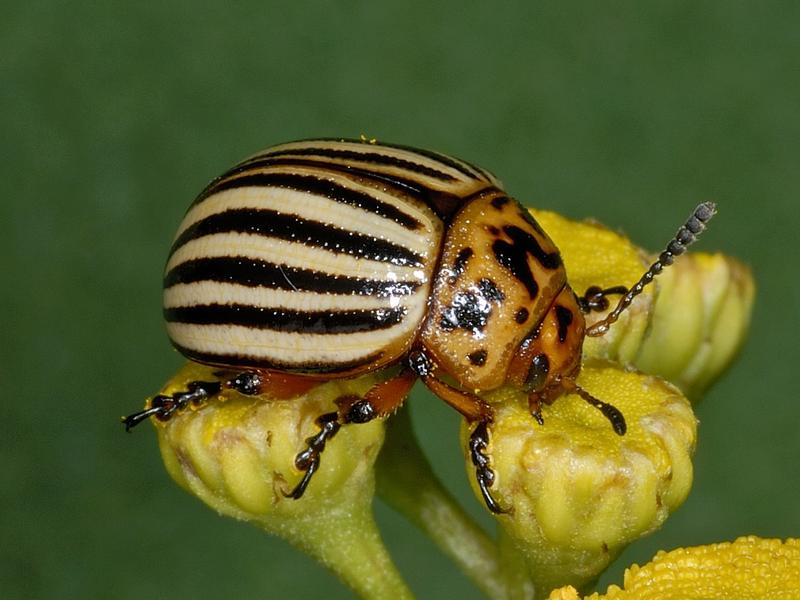hrosc: (172, 129, 614, 449)
